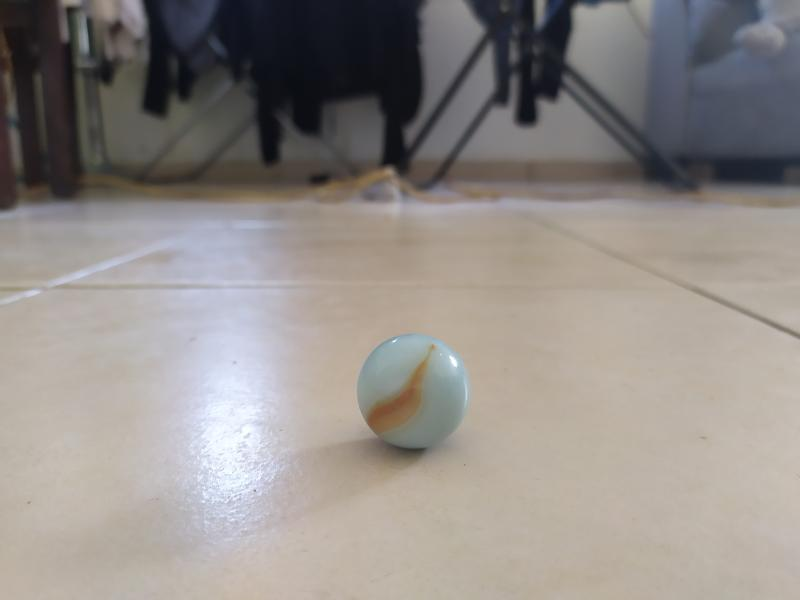Warning: (353, 331, 474, 453)
